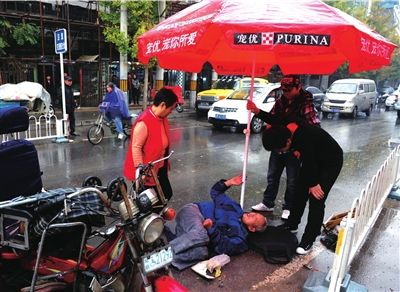fall: (163, 169, 279, 276)
